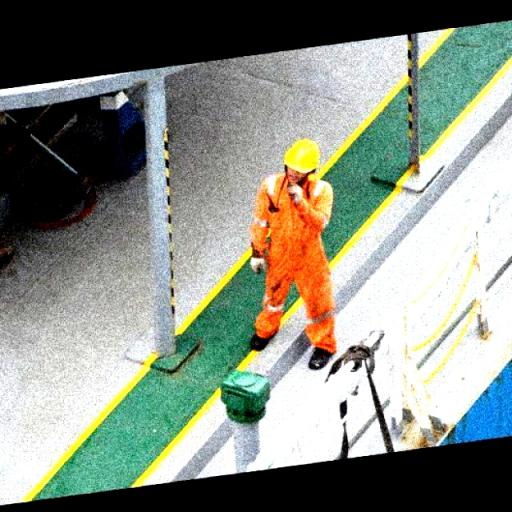Person: (242, 115, 370, 374)
boots: (249, 327, 279, 355), (306, 352, 332, 370)
gloves: (250, 256, 272, 278), (288, 183, 306, 201)
helmet: (282, 139, 326, 172)
vest: (254, 170, 336, 353)
